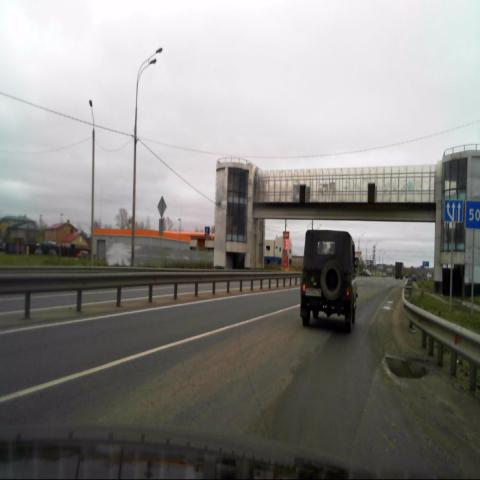6_2: (466, 201, 480, 230)
